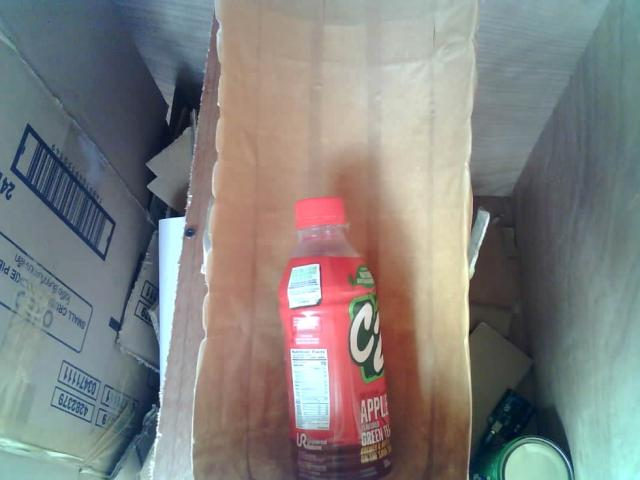small_bottle: (258, 189, 416, 480)
